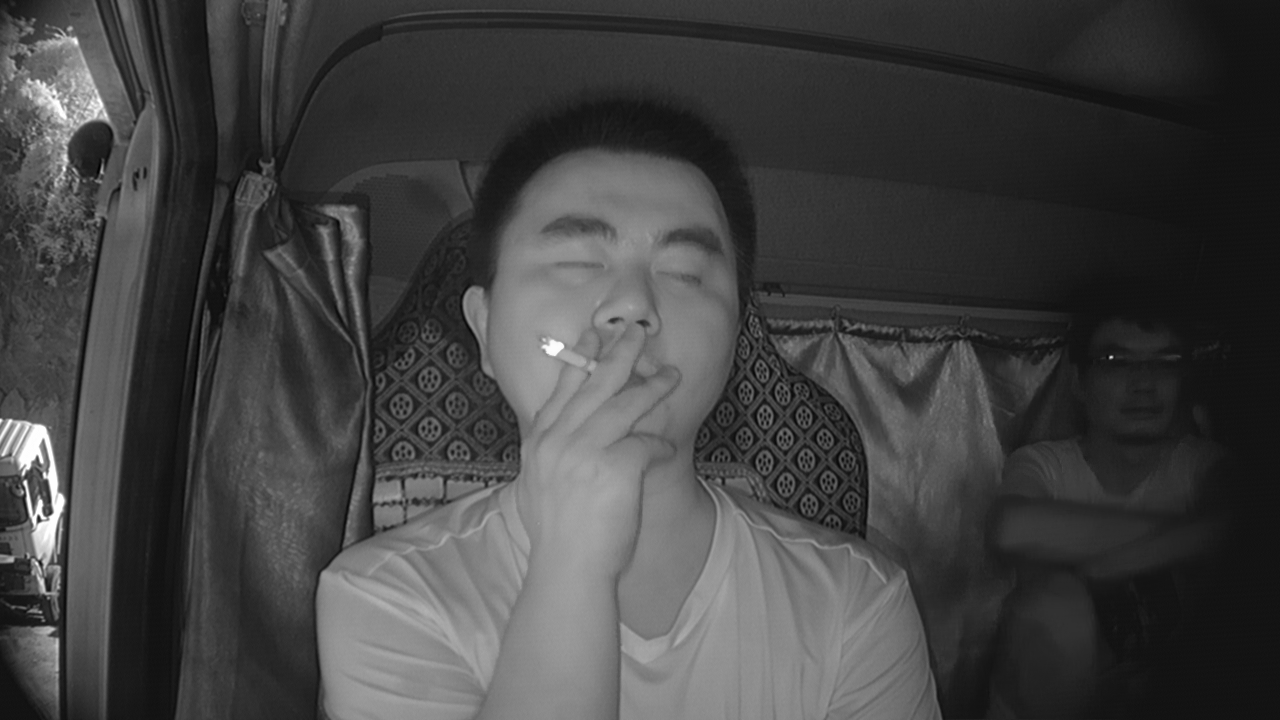hand: (516, 324, 677, 515)
